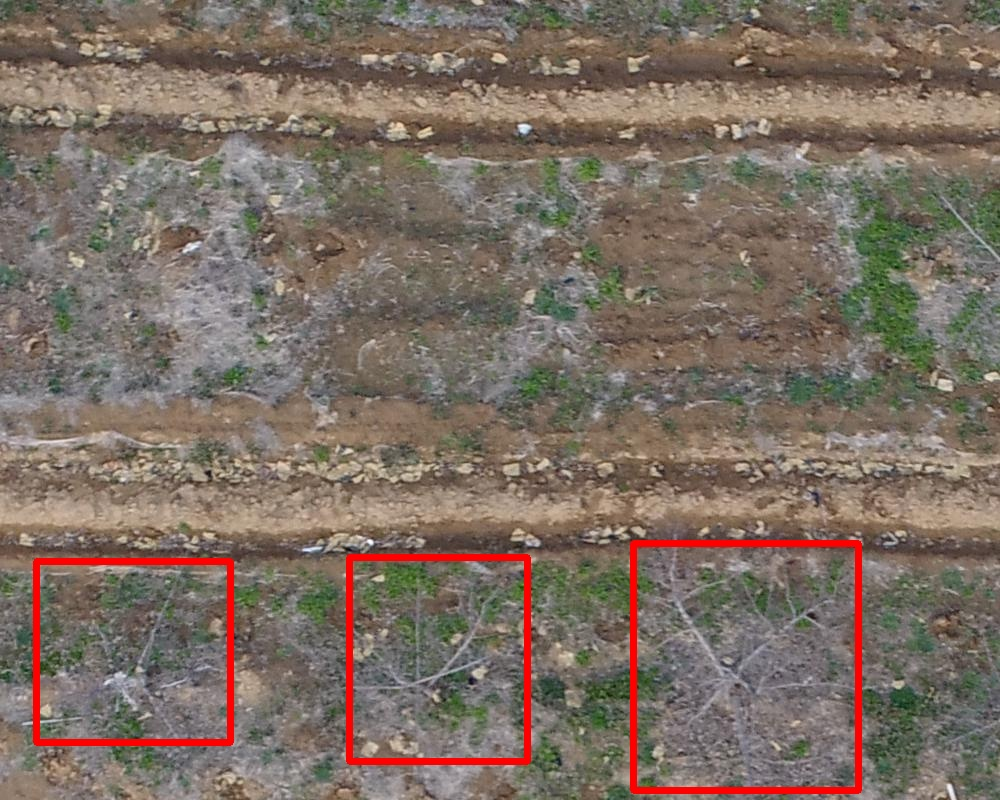apple: (633, 543, 858, 790), (349, 557, 527, 761), (36, 561, 230, 742)
